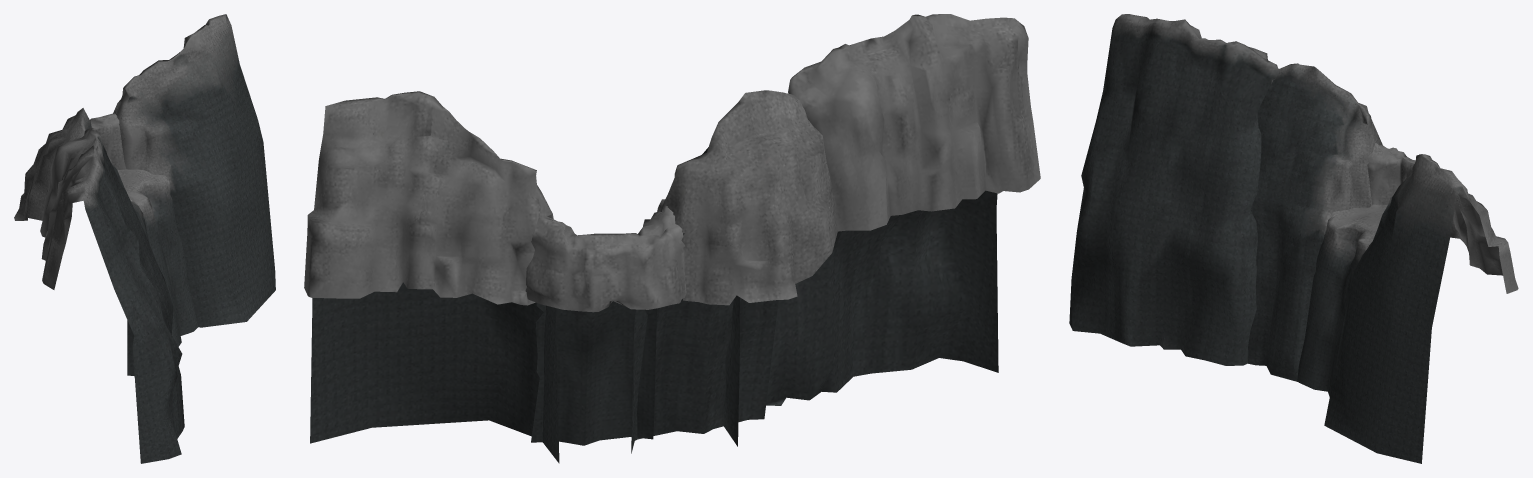
File: clod_terrain_04_04_clod_002.gltf
The picture shows the model from 3 angles, left to right: view 1: azimuth 30°, elevation 25°; view 2: azimuth 150°, elevation 25°; view 3: azimuth 270°, elevation 25°; orthographic projection. The views are drawn at different scales.
Visible parts, largest first — view 1: um_clod_terrain_04_04_clod_002_0_Shape1:aggregation_mat; view 2: um_clod_terrain_04_04_clod_002_0_Shape1:aggregation_mat; view 3: um_clod_terrain_04_04_clod_002_0_Shape1:aggregation_mat.
Boxes of the visible parts, x1,y1,x2,y2 form: um_clod_terrain_04_04_clod_002_0_Shape1:aggregation_mat: (14, 14, 275, 463); um_clod_terrain_04_04_clod_002_0_Shape1:aggregation_mat: (304, 14, 1040, 463); um_clod_terrain_04_04_clod_002_0_Shape1:aggregation_mat: (1069, 14, 1518, 463).
Size of the model in its own units: 507 by 378 by 522.
Materials: 1 (1 with a texture image).
